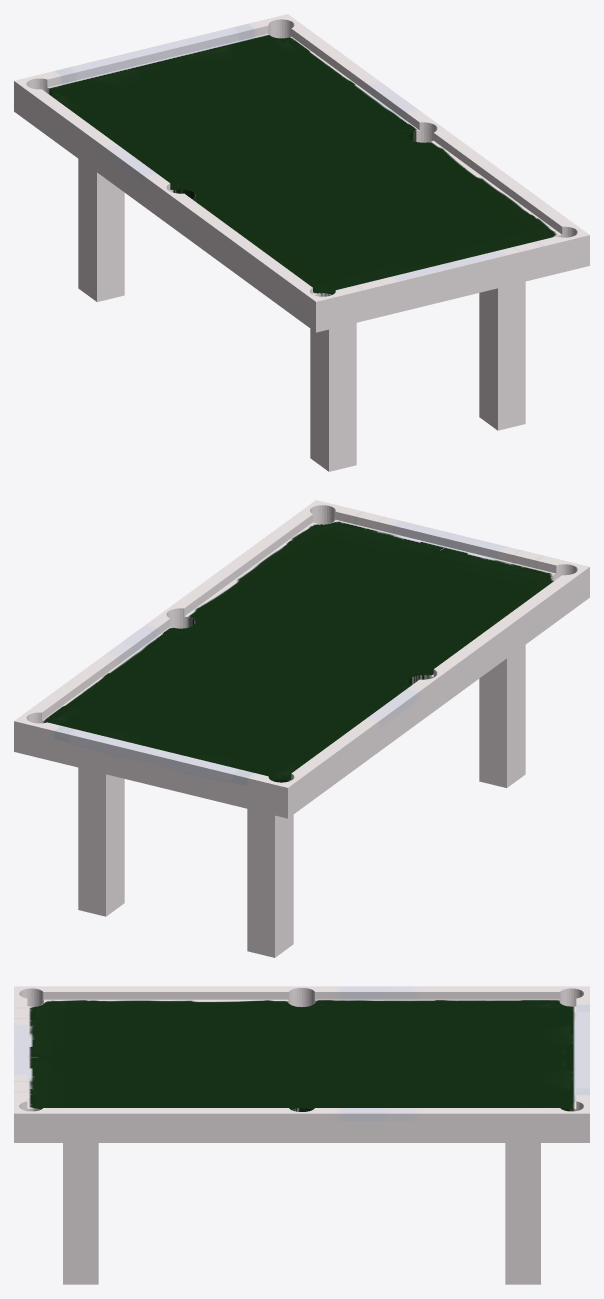
Rendered from StolBilardowy.fbx.
The picture shows the model from 3 angles, top to bottom: view 1: azimuth 30°, elevation 25°; view 2: azimuth 150°, elevation 25°; view 3: azimuth 270°, elevation 25°; orthographic projection. The views are drawn at different scales.
Visible parts, largest first — view 1: Cube; view 2: Cube; view 3: Cube.
Boxes of the visible parts, x1,y1,x2,y2 form: Cube: (14,14,589,471); Cube: (14,500,589,957); Cube: (14,986,589,1284).
Size of the model in its own units: 134 by 92.71 by 256.
